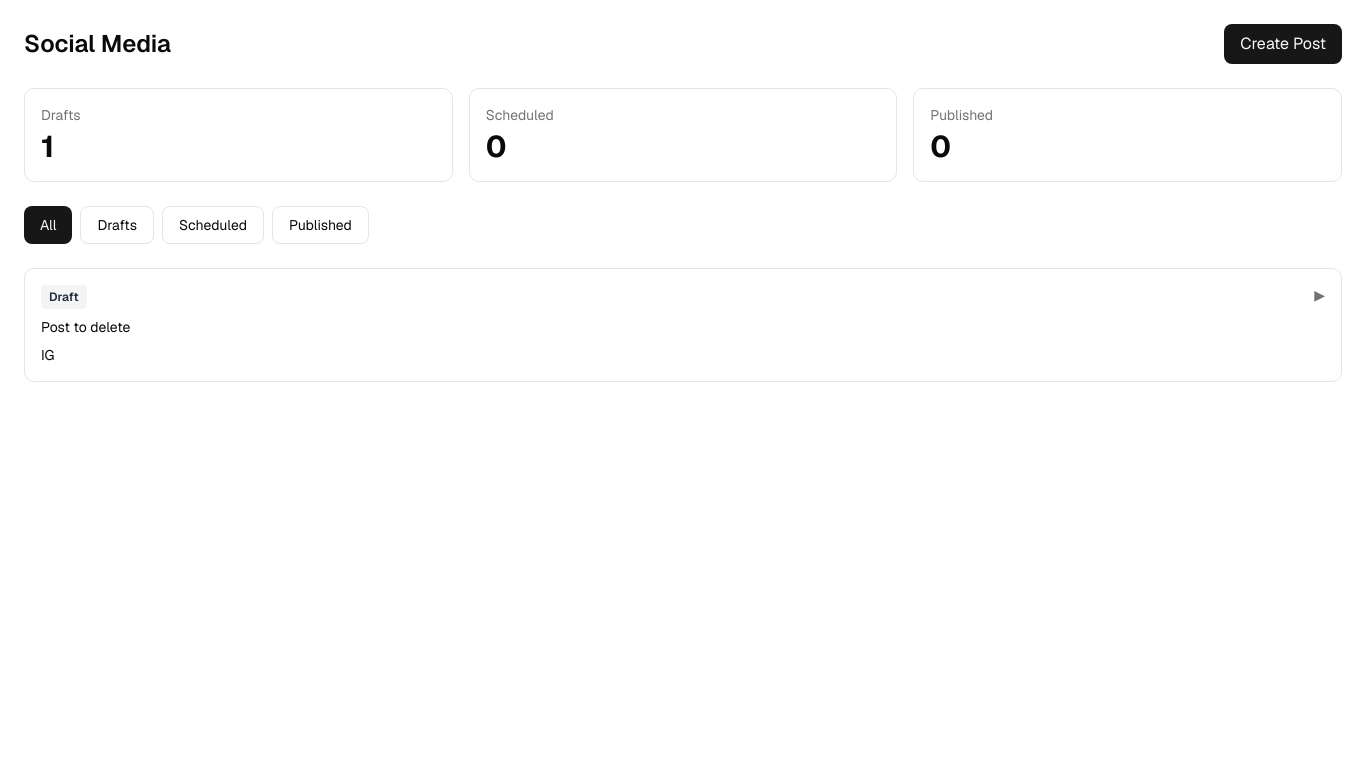
Test: SocialMedia › deletes a post
# Expand post
Click the text "Post to delete".
click(86, 324)  # box [41,285,130,364]
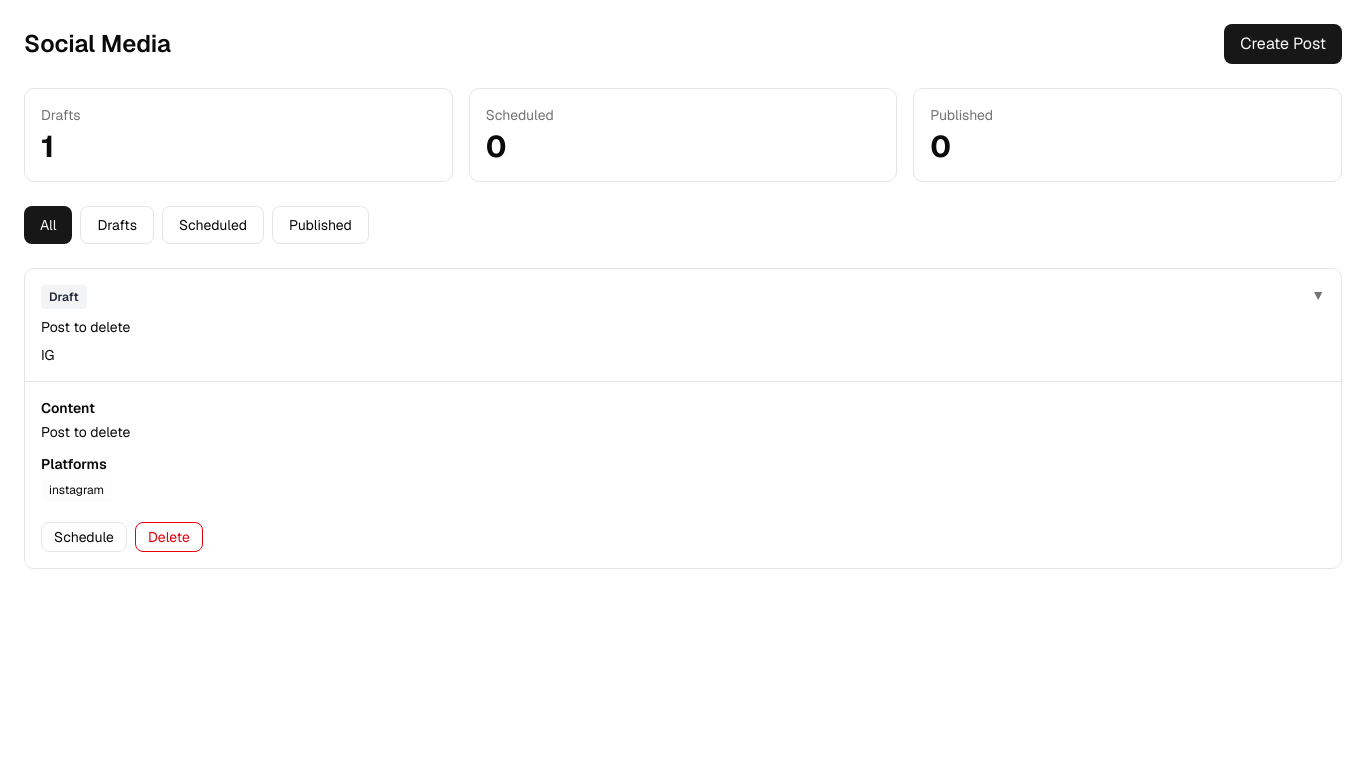
# Click delete
Click the button "Delete".
click(169, 537)  # box [135,522,203,552]
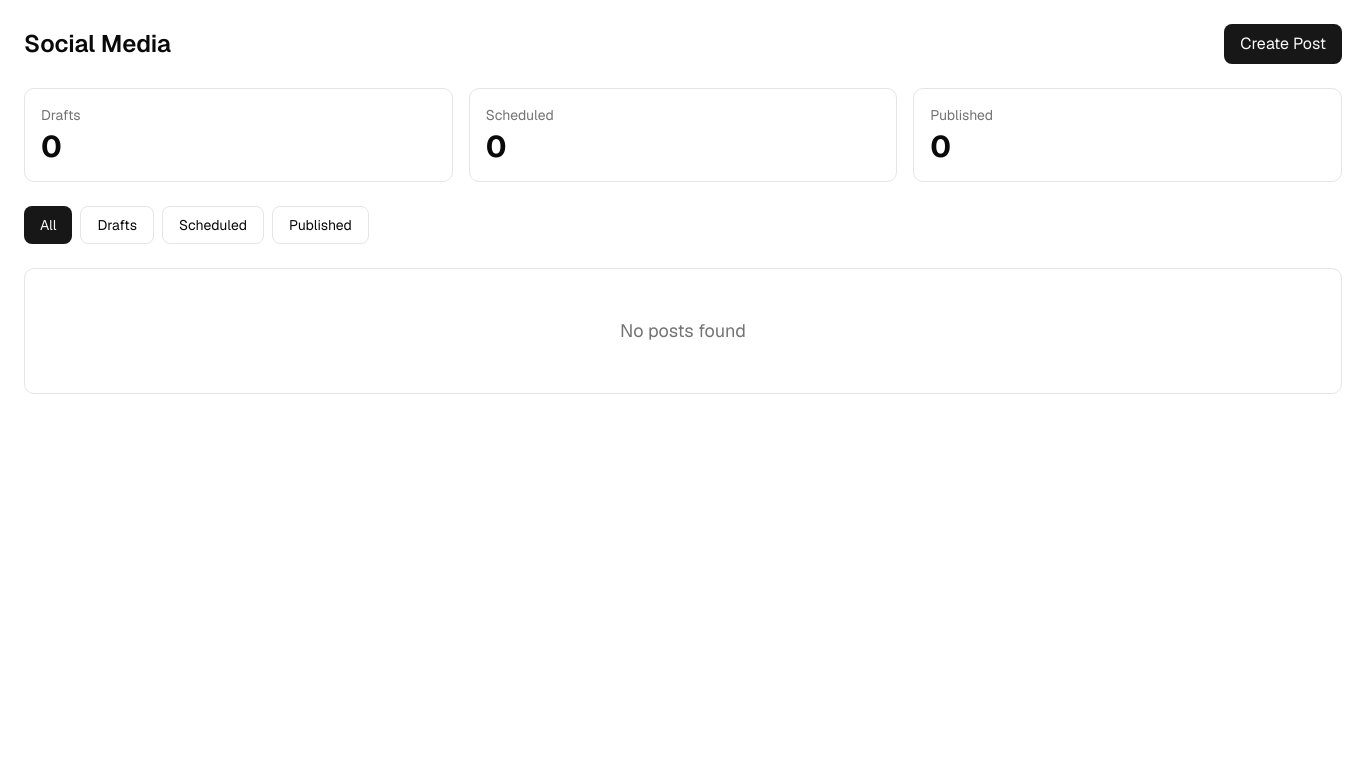
Expected: the text "Post to delete" is gone
